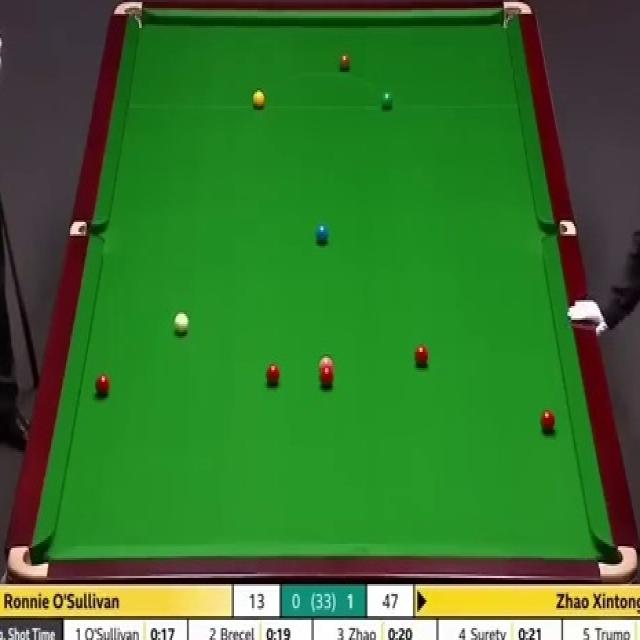pocket: (593, 543, 637, 580), (5, 543, 49, 575), (498, 0, 534, 29), (112, 0, 144, 29), (541, 218, 576, 238), (71, 217, 104, 237)
